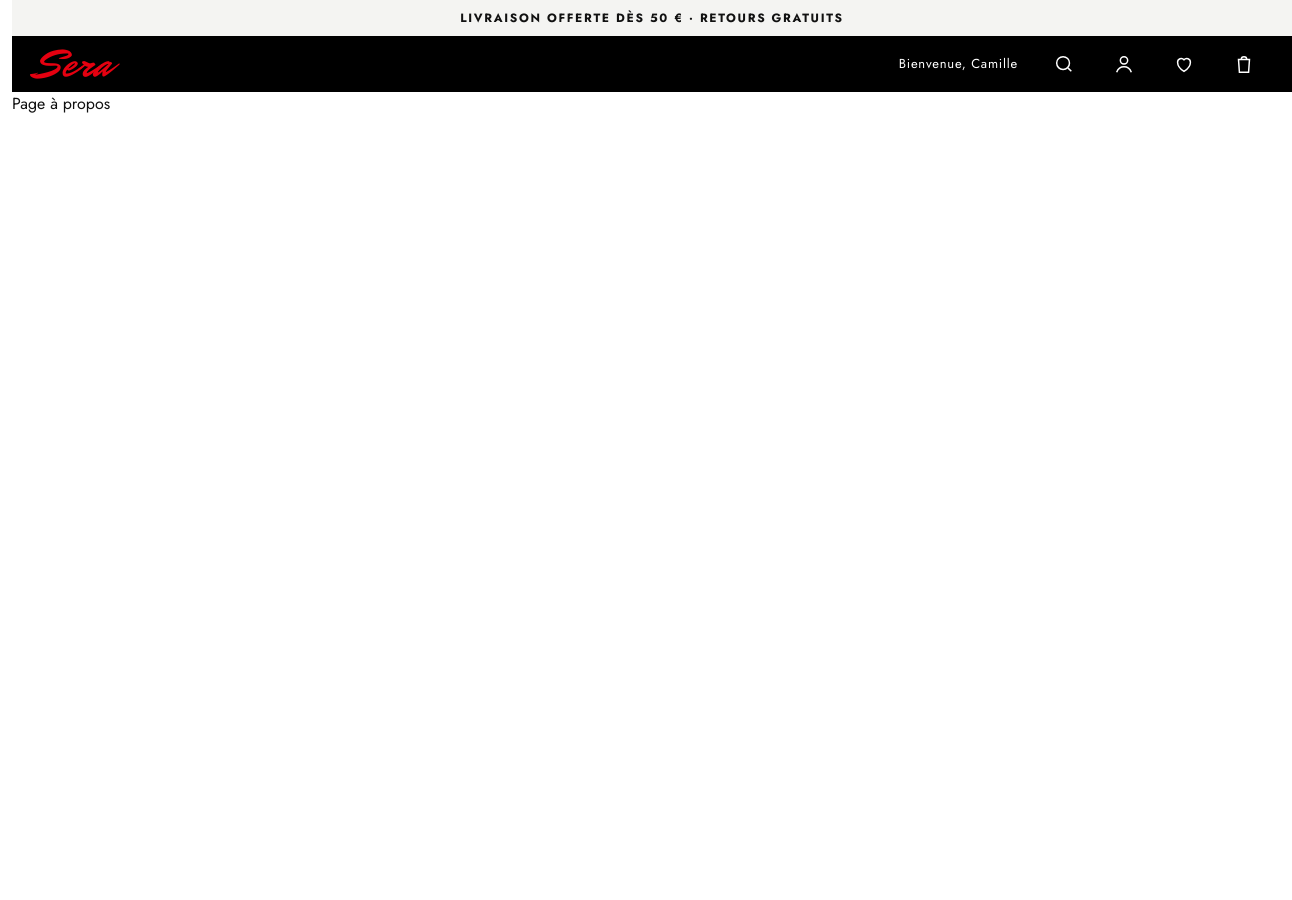
Test: Page Mon compte › mène à la page depuis « Paramètres »
Check: the text "Bienvenue, Camille" is shown, box [899, 54, 1018, 74]
Click the button named "Mon compte" at point(1124, 64), box [1102, 42, 1146, 86]
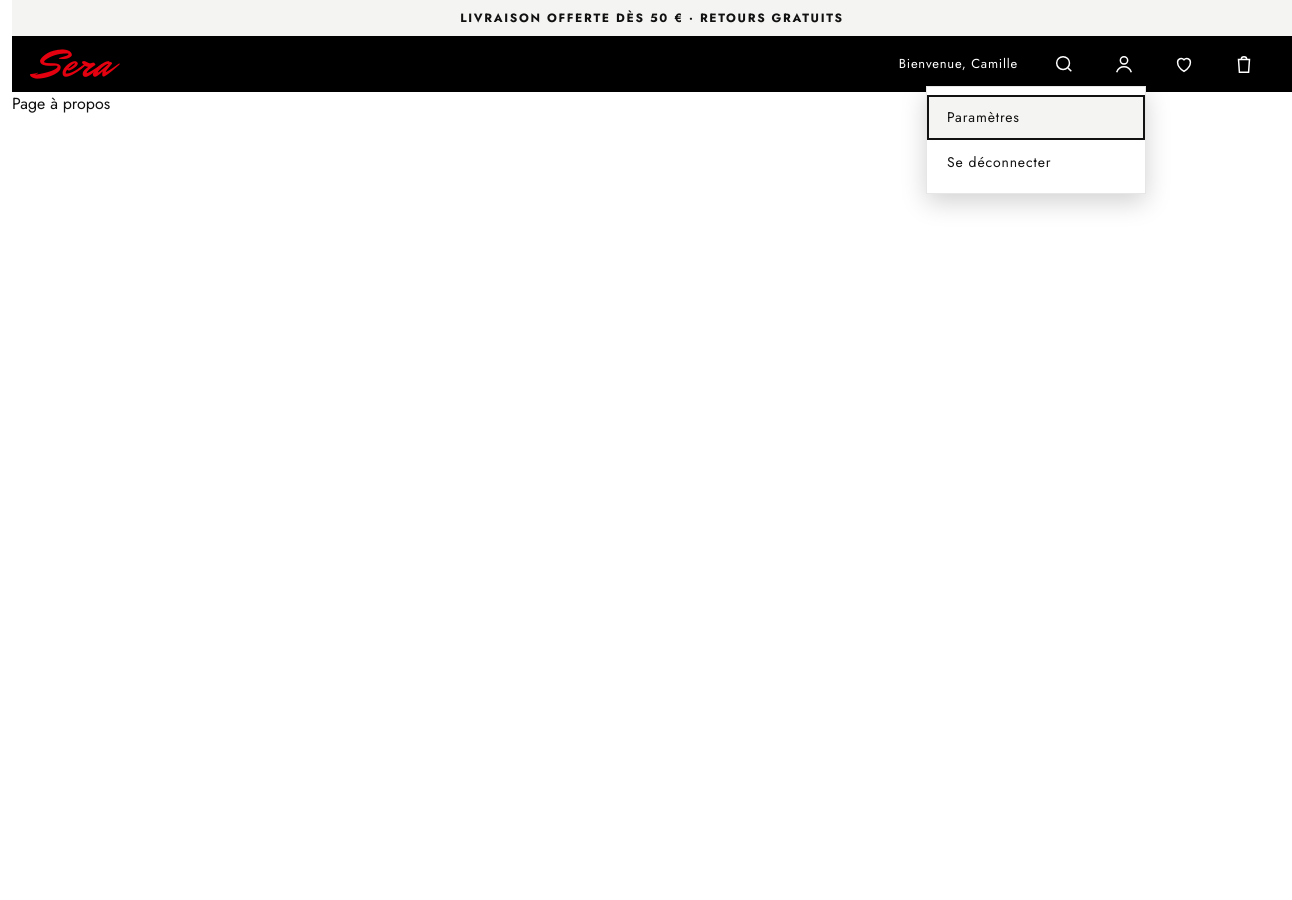
Click the link "Paramètres" at point(1036, 118), box [927, 95, 1145, 140]
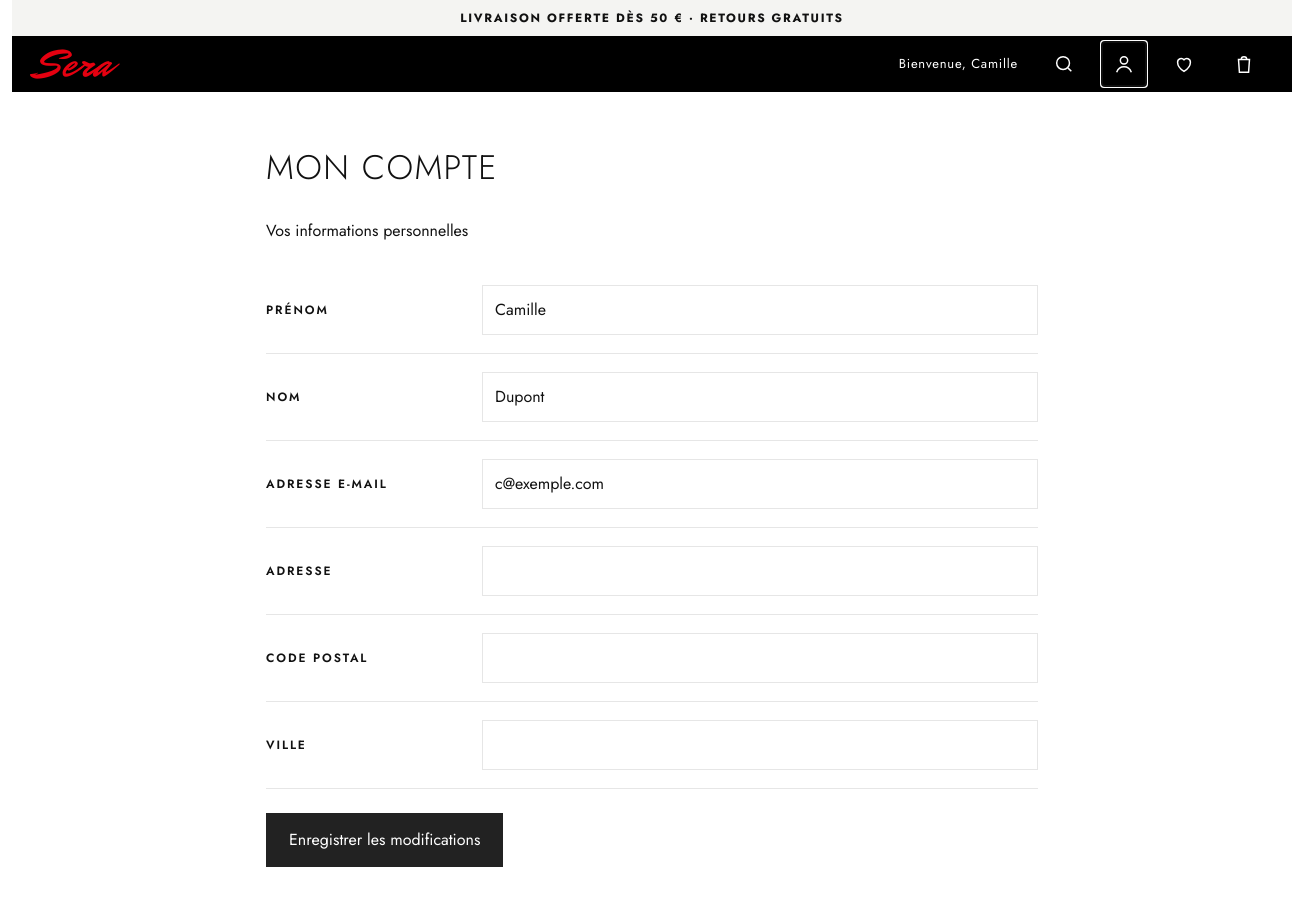
Check: the heading "Mon compte" is shown, box [266, 143, 498, 192]
